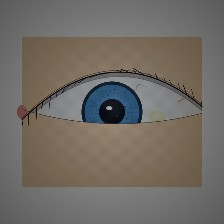pinguecula_lesion: (141, 104, 173, 129)
